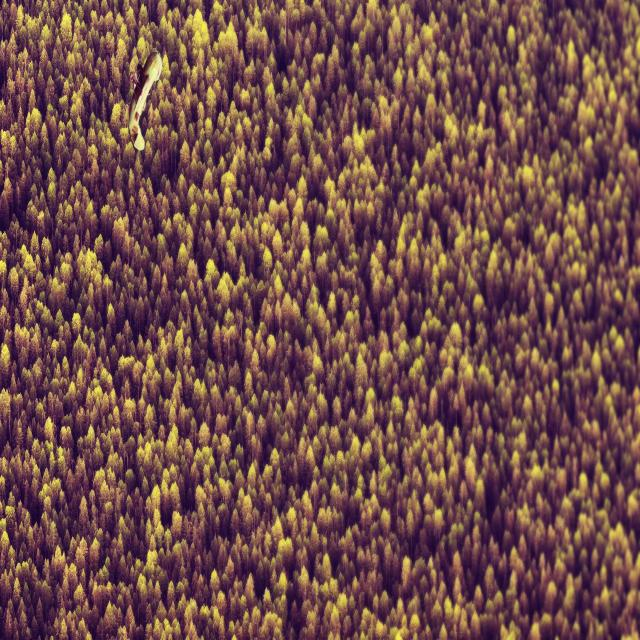airplane: (127, 49, 162, 152)
